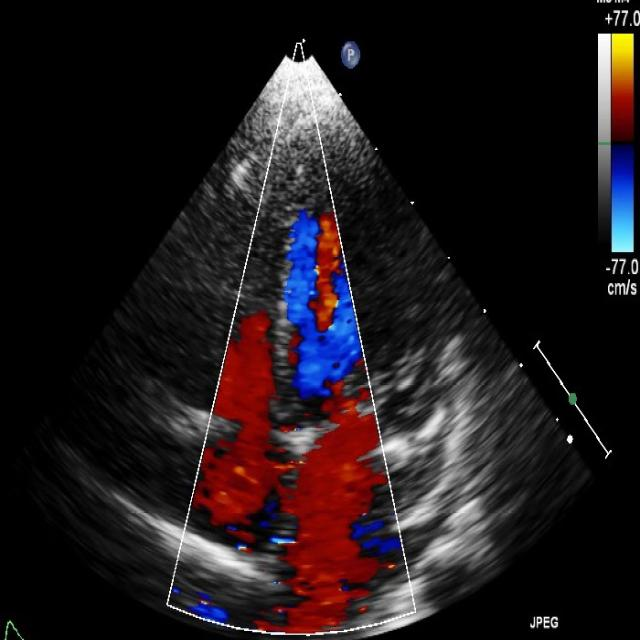ASDType2: (205, 421, 389, 563)
